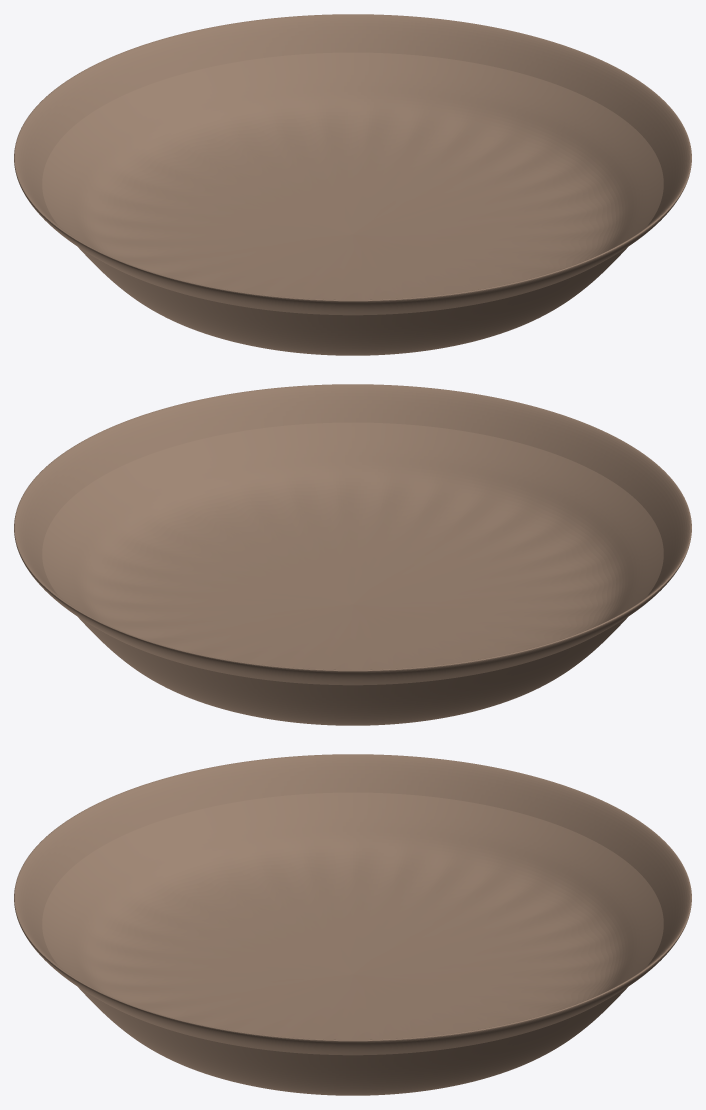
File: plate.fbx
3 views of the same model, one above another, from view 1: azimuth 30°, elevation 25°; view 2: azimuth 150°, elevation 25°; view 3: azimuth 270°, elevation 25° (orthographic).
Visible parts, largest first — view 1: Cylinder; view 2: Cylinder; view 3: Cylinder.
Part boxes in pixels (x1,y1,x2,y2): Cylinder: (14,14,691,355); Cylinder: (14,384,691,725); Cylinder: (14,754,691,1095).
Bounding box in the file's own units: 246 × 42.18 × 246.
